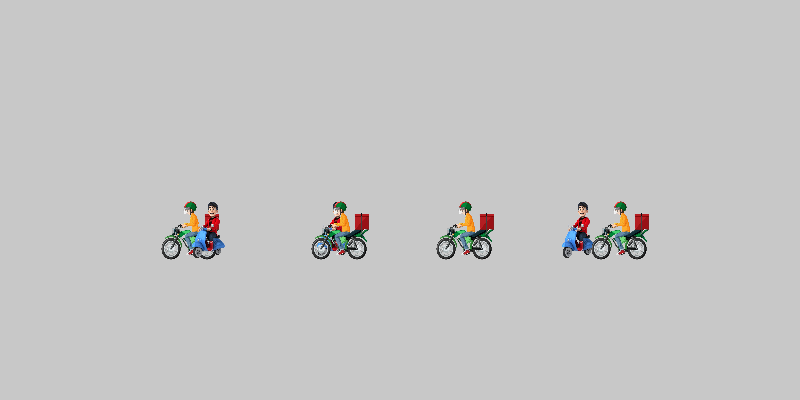helmet: (160, 200, 220, 260), (310, 200, 370, 260), (435, 200, 495, 260), (590, 200, 650, 260)
no_helmet: (180, 200, 240, 260), (305, 200, 365, 260), (550, 200, 610, 260)
